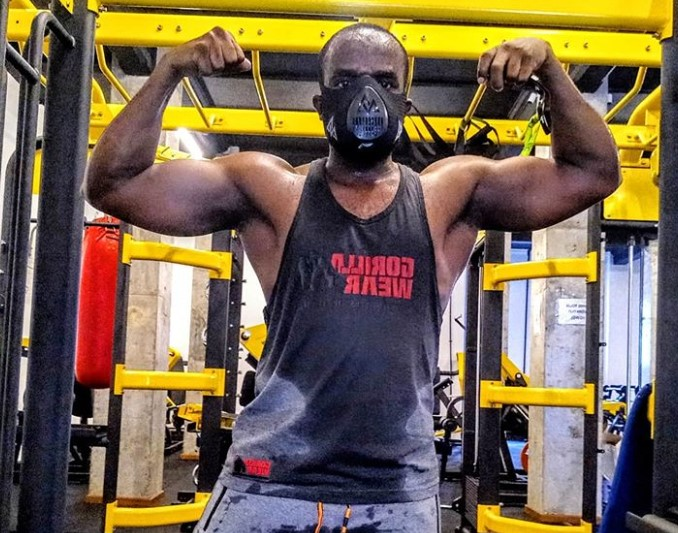face_with_mask: (311, 24, 414, 170)
